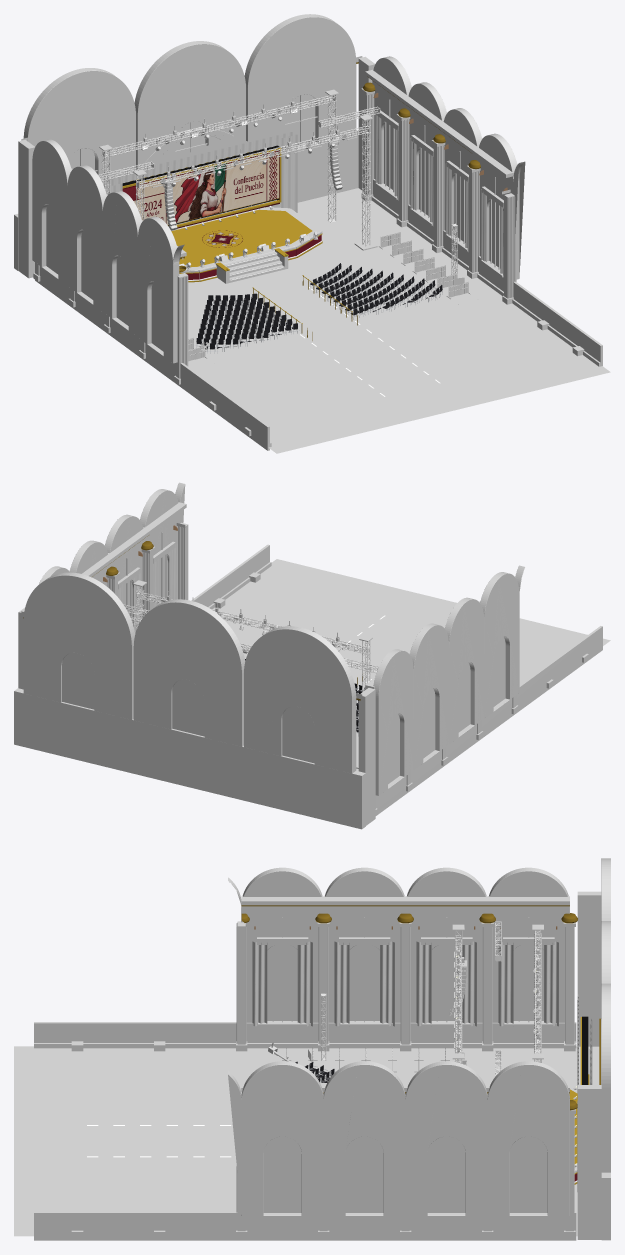
Rendered from la_mananera.fbx.
3 renders of one model, top to bottom at view 1: azimuth 30°, elevation 25°; view 2: azimuth 150°, elevation 25°; view 3: azimuth 270°, elevation 25°, orthographic. The views are drawn at different scales.
Parts seen in each view (by area): view 1: Piso_Marmol; view 2: Piso_Marmol; view 3: Piso_Marmol.
Boxes of the visible parts, box(x1,y1,x2,y2) form: Piso_Marmol: box(14, 14, 610, 453); Piso_Marmol: box(14, 482, 610, 829); Piso_Marmol: box(14, 858, 610, 1240).
Bounding box in the file's own units: 3540 × 1816 × 4511.
111 materials, 2 textured.
